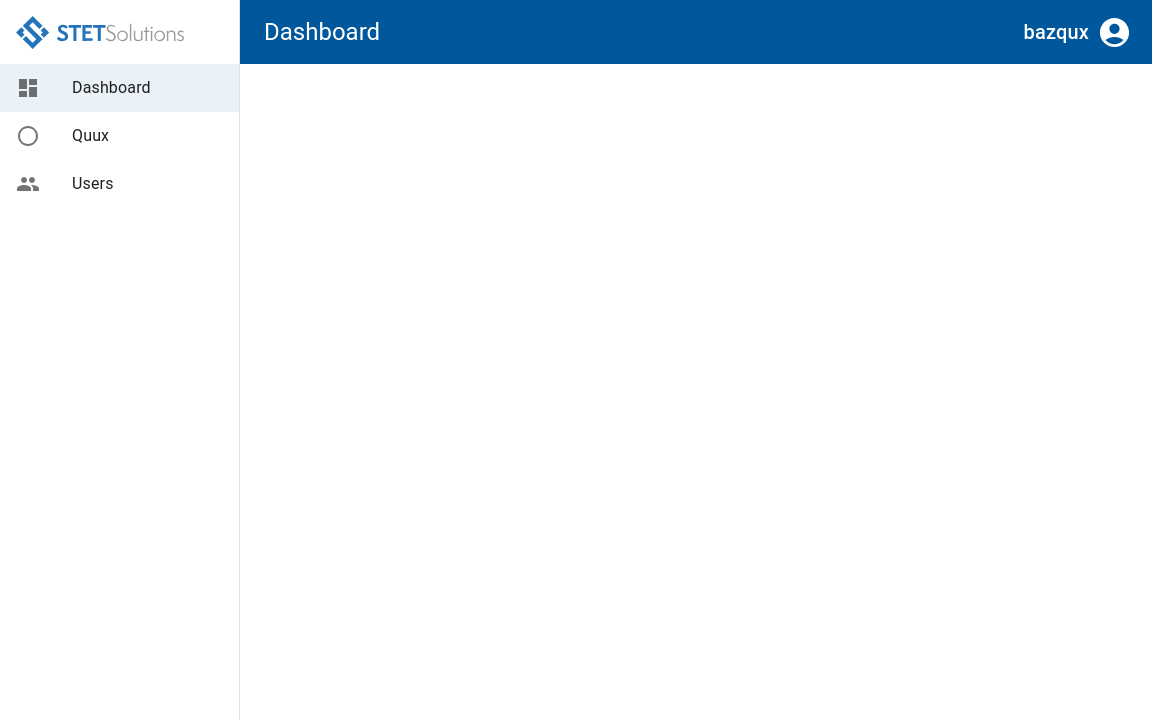
Test: Header :: navigates on drawer link click
This screenshot has width=1152, height=720.
Click the link "Users": (93, 184) top-left (16, 172), bottom-right (114, 196)
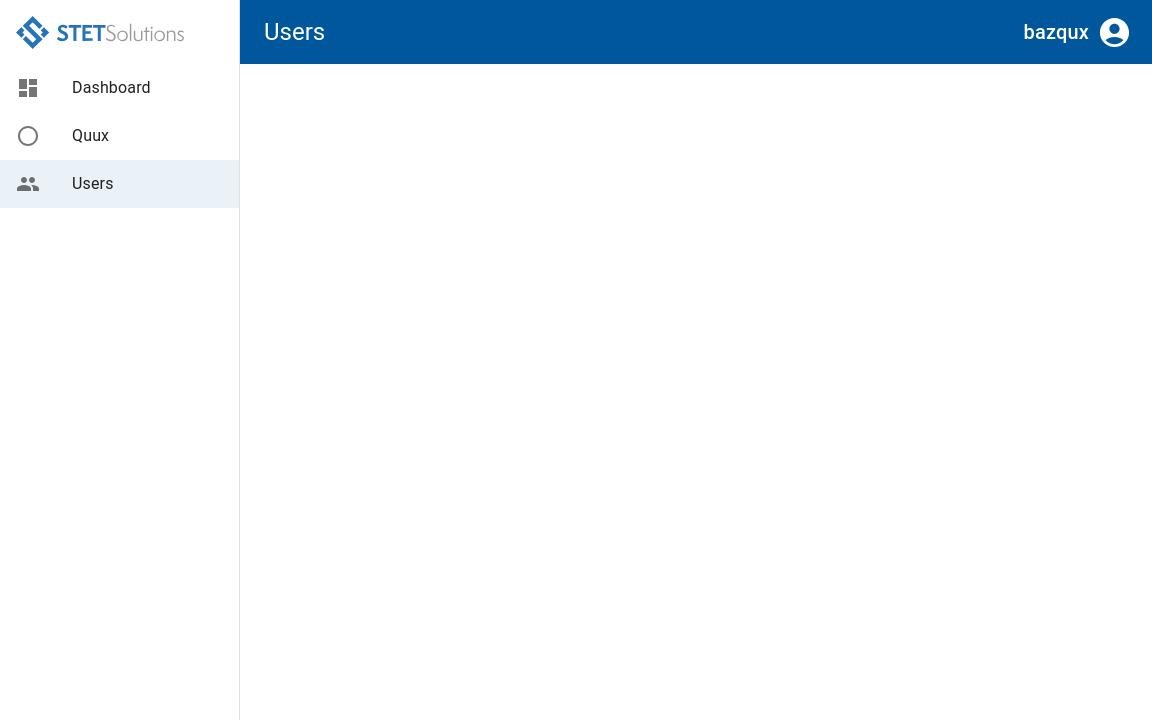
Expected: the heading "Users" is shown, top-left (264, 18), bottom-right (325, 46)
